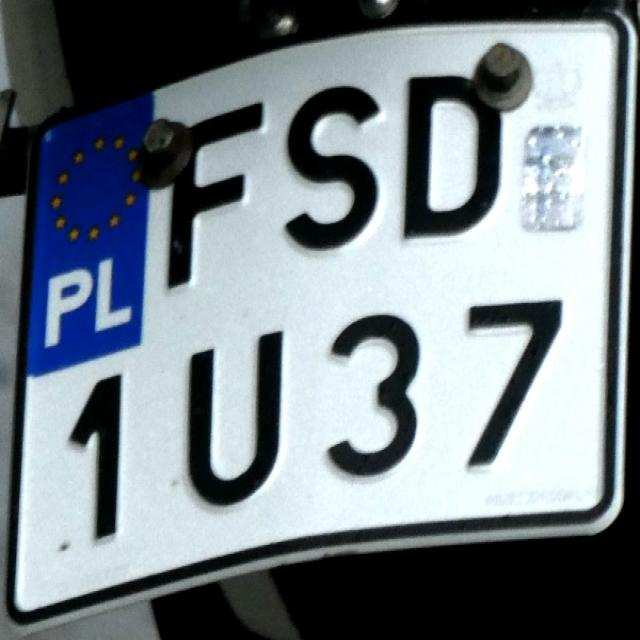pl_license_plate: (20, 22, 617, 591)
